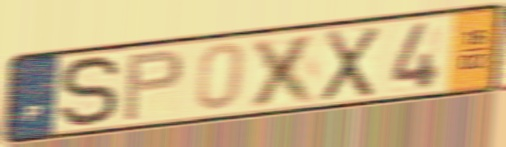0: (192, 39, 249, 115)
4: (388, 18, 443, 93)
P: (120, 46, 187, 124)
S: (57, 52, 124, 132)
X: (246, 30, 323, 110), (317, 23, 384, 106)
